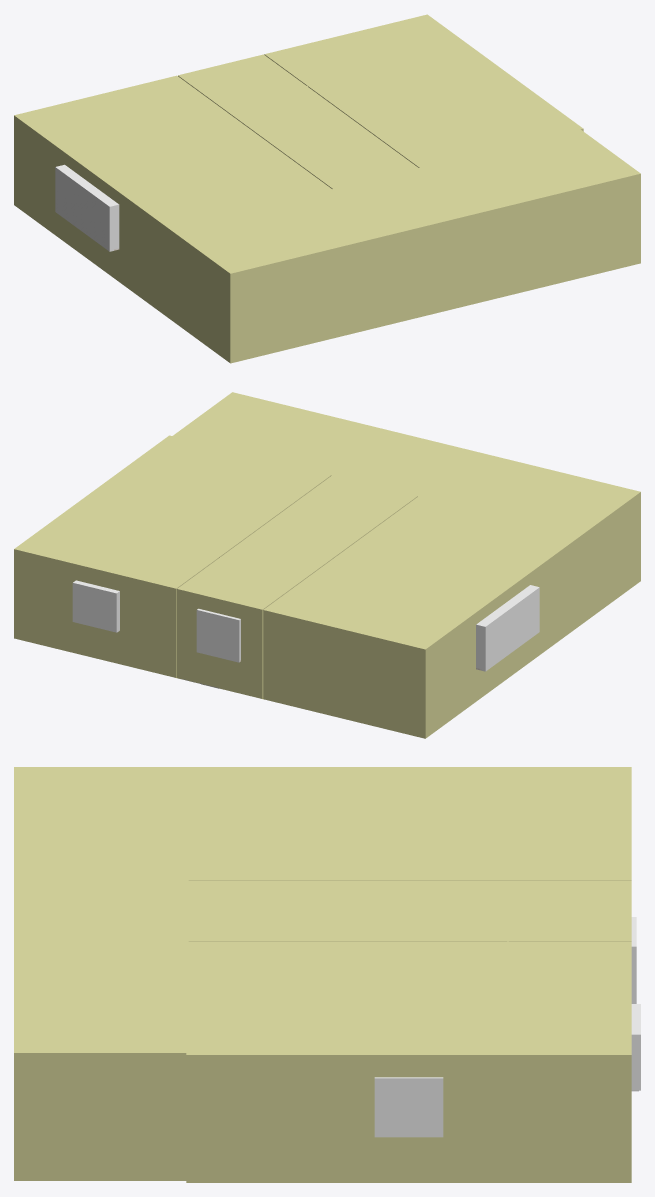
The model's file is house.fbx.
The picture shows the model from 3 angles, top to bottom: view 1: azimuth 30°, elevation 25°; view 2: azimuth 150°, elevation 25°; view 3: azimuth 270°, elevation 25°; orthographic projection. The views are drawn at different scales.
Parts seen in each view (by area): view 1: Walls.001, Walls.002, Walls.003, Walls, CTRL_Hole.009; view 2: Walls.001, Walls, Walls.003, Walls.002, CTRL_Hole.009, CTRL_Hole.005, CTRL_Hole.004; view 3: Walls.001, Walls.002, Walls, Walls.003, CTRL_Hole.006, CTRL_Hole.005.
Boxes of the visible parts, x1,y1,x2,y2 form: Walls.001: (14,14,583,318); Walls.002: (334,129,640,323); Walls.003: (170,189,394,363); Walls: (178,54,418,189); CTRL_Hole.009: (55,165,119,251); Walls.001: (14,435,580,738); Walls: (177,475,417,698); Walls.003: (417,452,640,624); Walls.002: (172,392,476,495); CTRL_Hole.009: (476,585,539,671); CTRL_Hole.005: (72,580,119,632); CTRL_Hole.004: (196,609,240,662); Walls.001: (186,767,631,1182); Walls.002: (14,881,188,1180); Walls: (186,881,631,941); Walls.003: (14,767,188,881); CTRL_Hole.006: (374,1077,443,1137); CTRL_Hole.005: (631,1004,640,1090).
Bounding box in the file's own units: 1125 × 237 × 1009.
